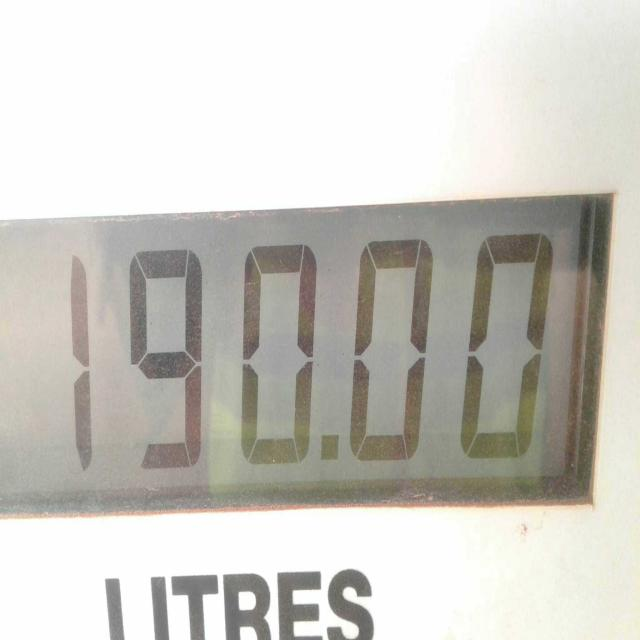.: (314, 407, 345, 483)
0: (452, 220, 552, 475), (340, 238, 438, 471), (226, 236, 317, 486)
1: (54, 239, 118, 479)
9: (128, 243, 218, 472)
